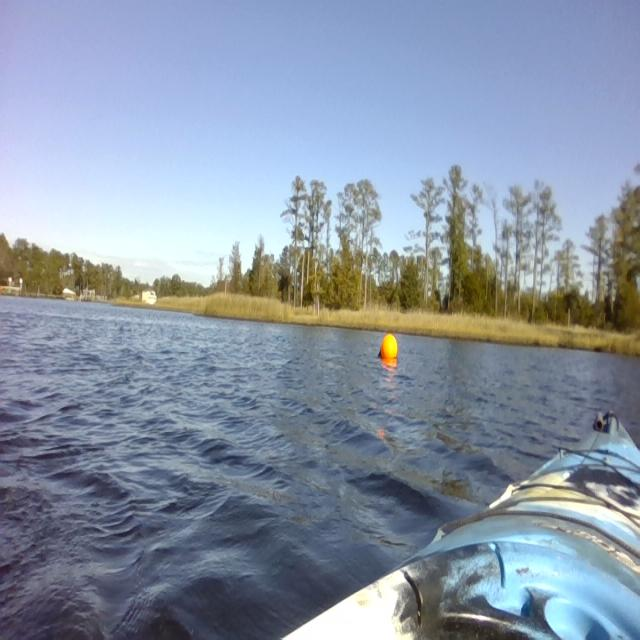Buoy: (375, 323, 404, 379)
